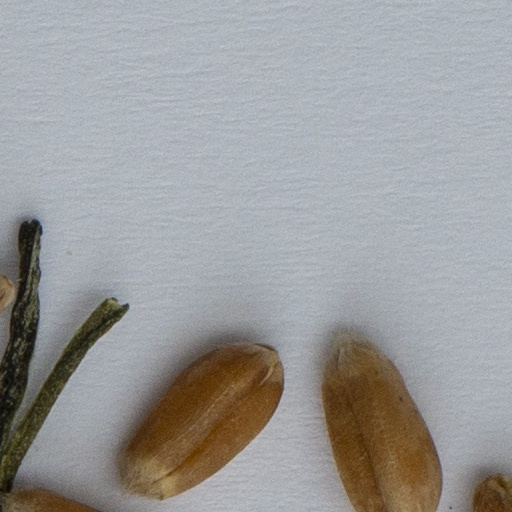Peel-poly: (0, 218, 119, 511)
